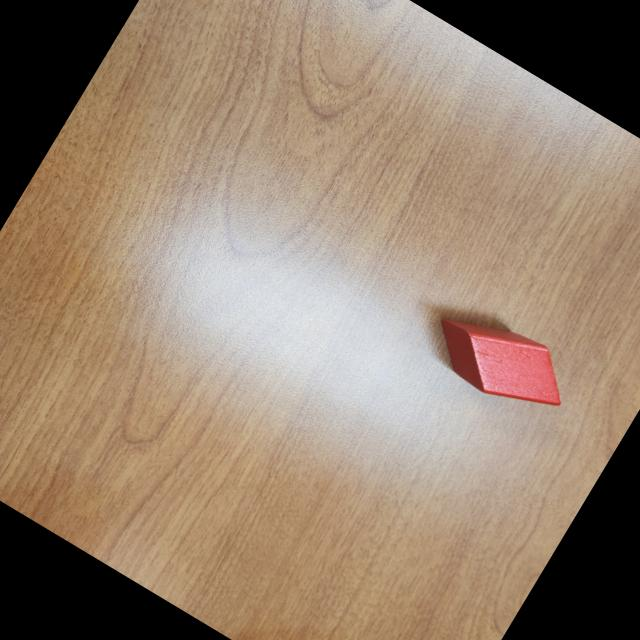red: (420, 292, 582, 431)
